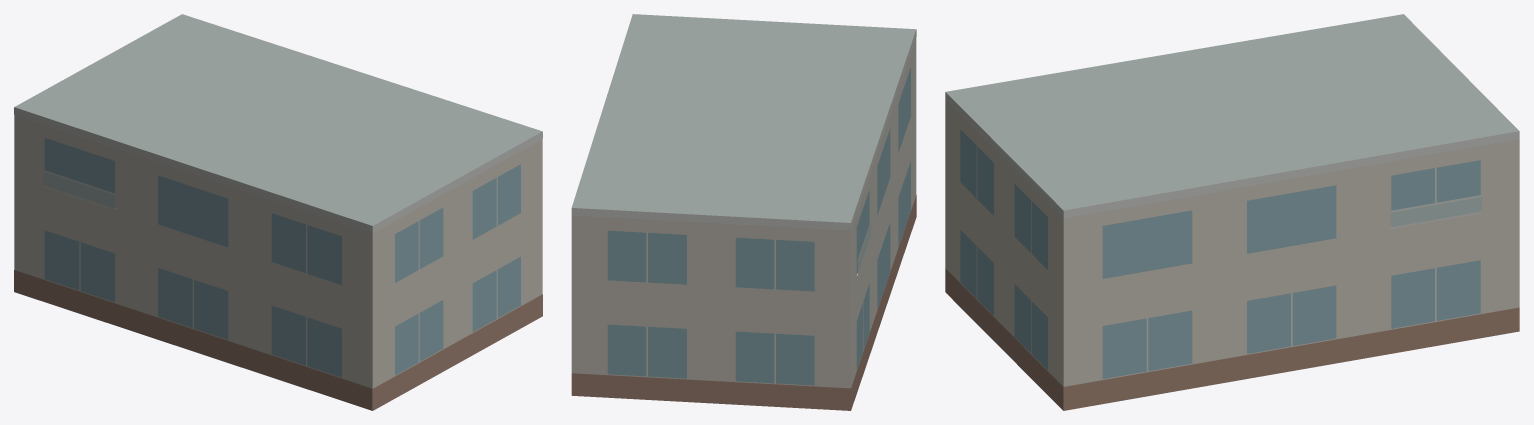
The model's file is survey-upis-32850534.glb.
3 renders of one model, left to right at view 1: azimuth 30°, elevation 25°; view 2: azimuth 150°, elevation 25°; view 3: azimuth 270°, elevation 25°, orthographic. The views are drawn at different scales.
Parts seen in each view (by area): view 1: survey-upis-32850534.tmp; view 2: survey-upis-32850534.tmp; view 3: survey-upis-32850534.tmp.
Boxes of the visible parts, box(x1,y1,x2,y2) form: survey-upis-32850534.tmp: box(14, 14, 542, 410); survey-upis-32850534.tmp: box(571, 14, 916, 410); survey-upis-32850534.tmp: box(945, 14, 1519, 410).
Size of the model in its own units: 12.85 by 6.1 by 15.86.
